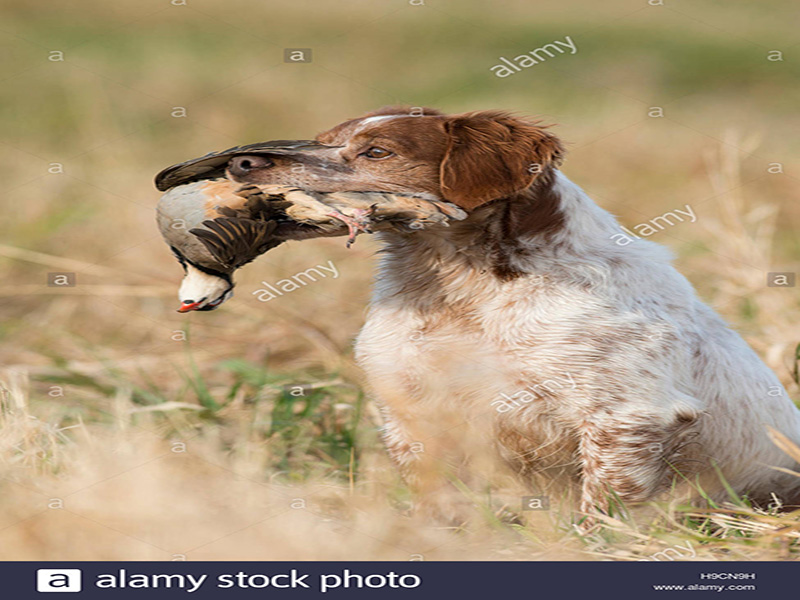cane da caccia: (241, 104, 800, 524)
